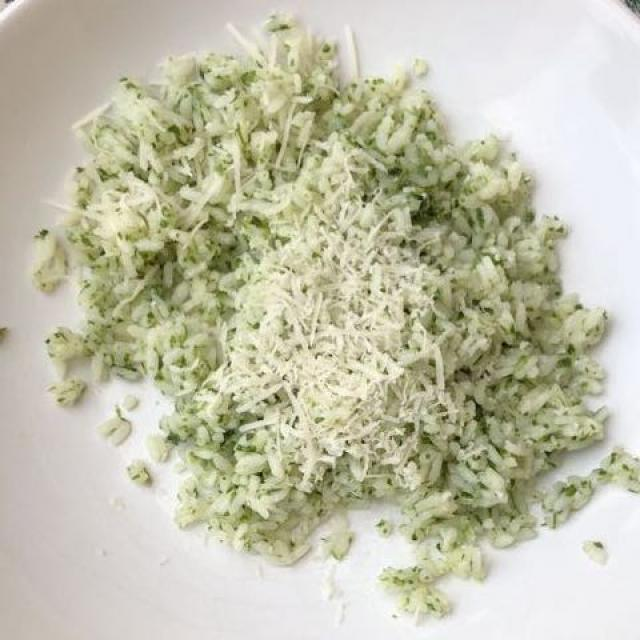parmesan: (140, 168, 510, 506)
rice: (18, 3, 615, 608)
